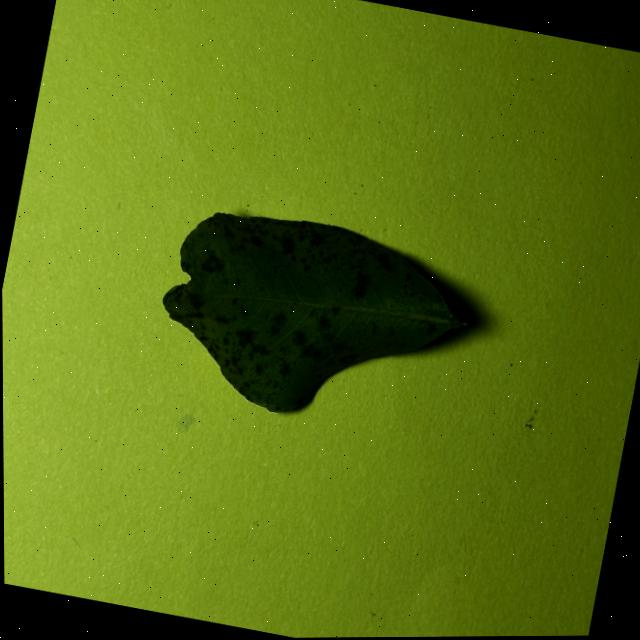sooty_mold: (163, 212, 462, 411)
